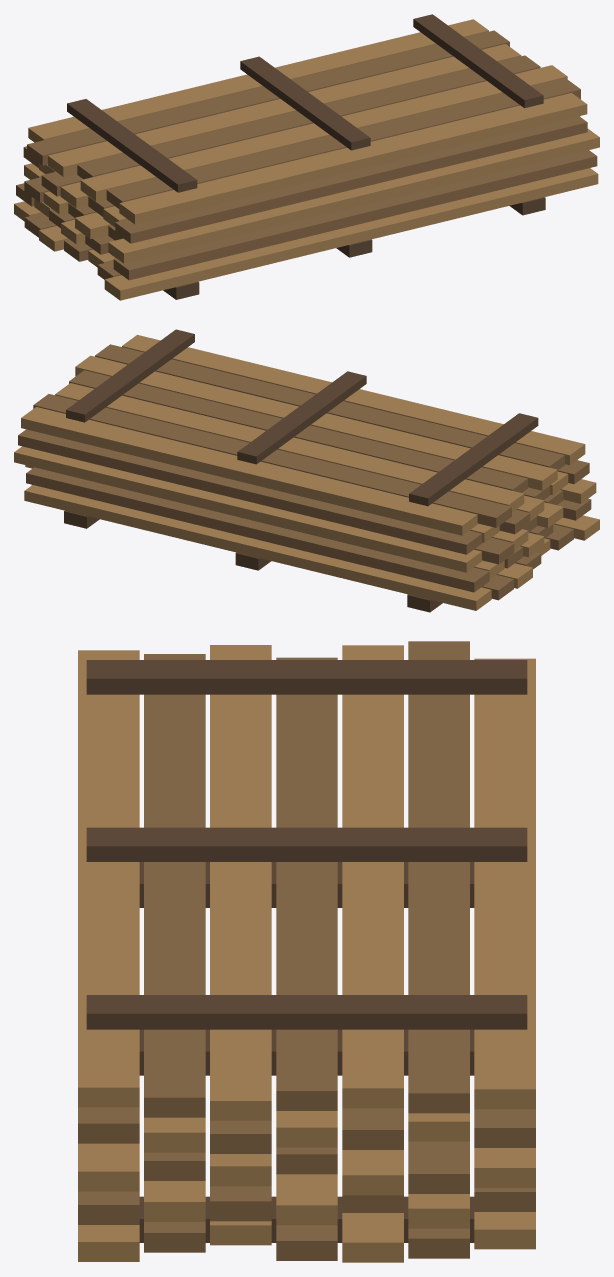
File: decorativos-pila-tablones.glb
3 views of the same model, one above another, from view 1: azimuth 30°, elevation 25°; view 2: azimuth 150°, elevation 25°; view 3: azimuth 270°, elevation 25° (orthographic). The views are drawn at different scales.
Visible parts, largest first — view 1: pila_tablones_MaderaClara, pila_tablones_Madera, pila_tablones_MaderaOscura; view 2: pila_tablones_MaderaClara, pila_tablones_Madera, pila_tablones_MaderaOscura; view 3: pila_tablones_MaderaClara, pila_tablones_Madera, pila_tablones_MaderaOscura.
Boxes of the visible parts, x1,y1,x2,y2 form: pila_tablones_MaderaClara: (14,19,599,300); pila_tablones_Madera: (16,30,597,280); pila_tablones_MaderaOscura: (67,14,545,299); pila_tablones_MaderaClara: (14,335,599,610); pila_tablones_Madera: (18,344,591,600); pila_tablones_MaderaOscura: (64,329,538,612); pila_tablones_MaderaClara: (78,645,535,1262); pila_tablones_Madera: (78,641,535,1260); pila_tablones_MaderaOscura: (86,660,527,1242).
Size of the model in its own units: 2.51 by 0.57 by 1.04.
